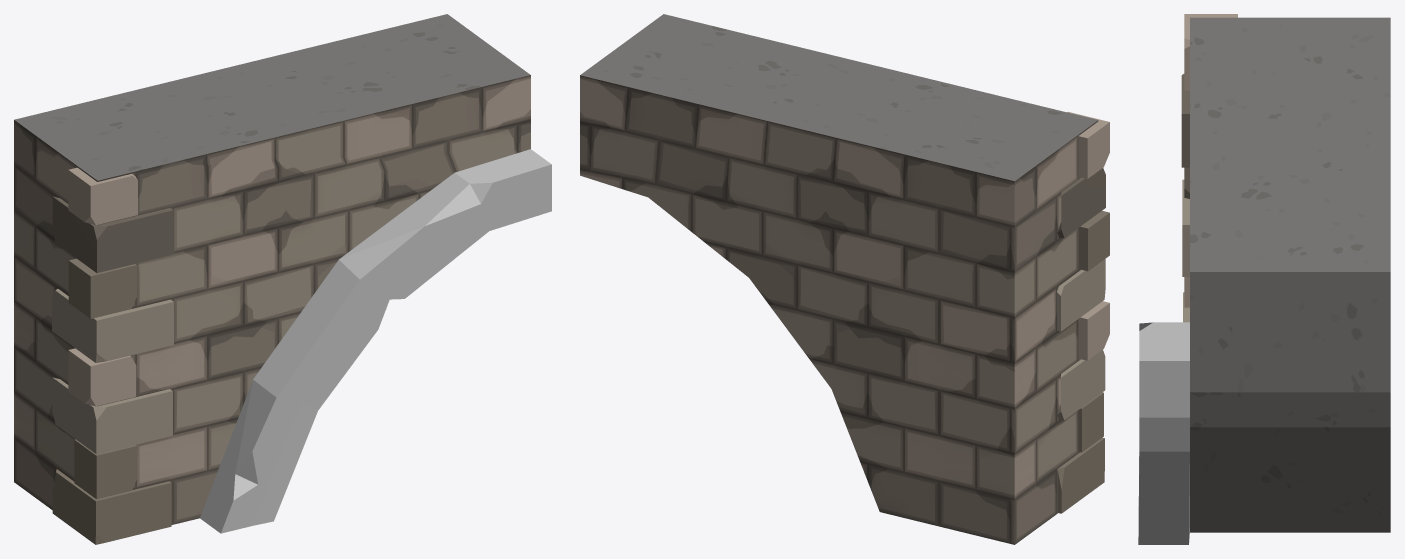
Rendered from SM_Bld_Tunnel_Curved_Roof_End_01.fbx.
3 renders of one model, left to right at view 1: azimuth 30°, elevation 25°; view 2: azimuth 150°, elevation 25°; view 3: azimuth 270°, elevation 25°, orthographic. The views are drawn at different scales.
Parts seen in each view (by area): view 1: SM_Bld_Tunnel_Curved_Roof_End_01; view 2: SM_Bld_Tunnel_Curved_Roof_End_01; view 3: SM_Bld_Tunnel_Curved_Roof_End_01.
Boxes of the visible parts, x1=… form: SM_Bld_Tunnel_Curved_Roof_End_01: x1=14, y1=14, x2=551, y2=544; SM_Bld_Tunnel_Curved_Roof_End_01: x1=580, y1=14, x2=1109, y2=544; SM_Bld_Tunnel_Curved_Roof_End_01: x1=1138, y1=14, x2=1390, y2=544.
Size of the model in its own units: 383 by 300 by 157.
